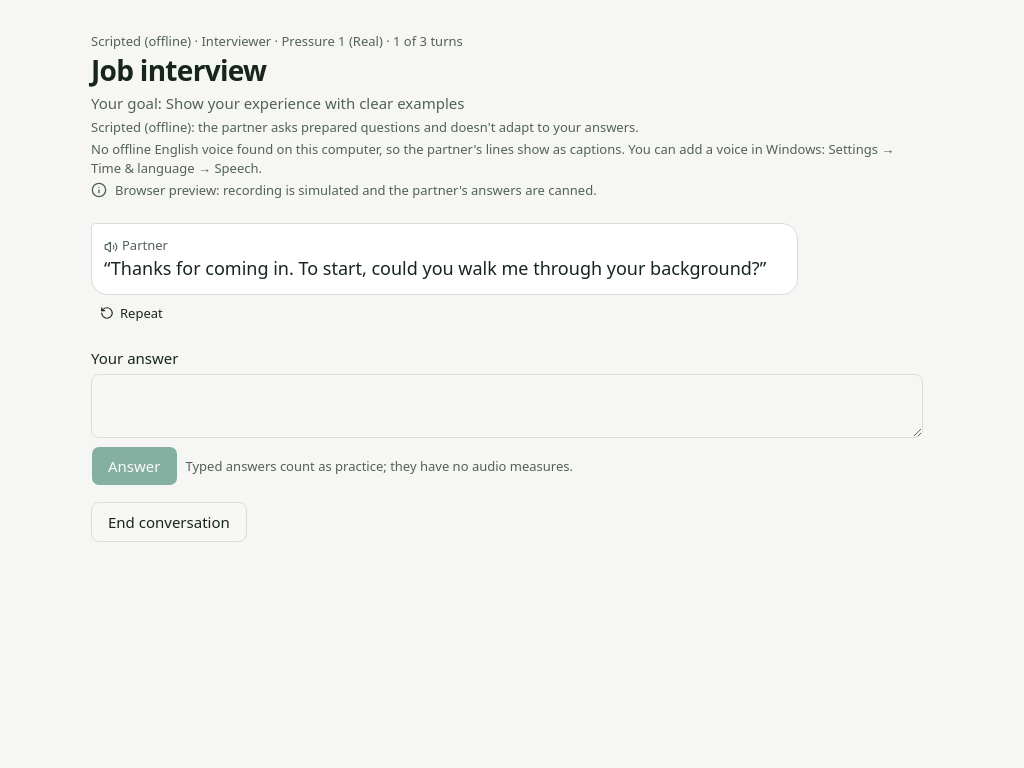
Test: asks scripted lines in order and ends after maxTurns
This screenshot has width=1024, height=768.
Type "First answer." into the text box labelled "Your answer" at (507, 406), box top-left (91, 374), bottom-right (923, 438)
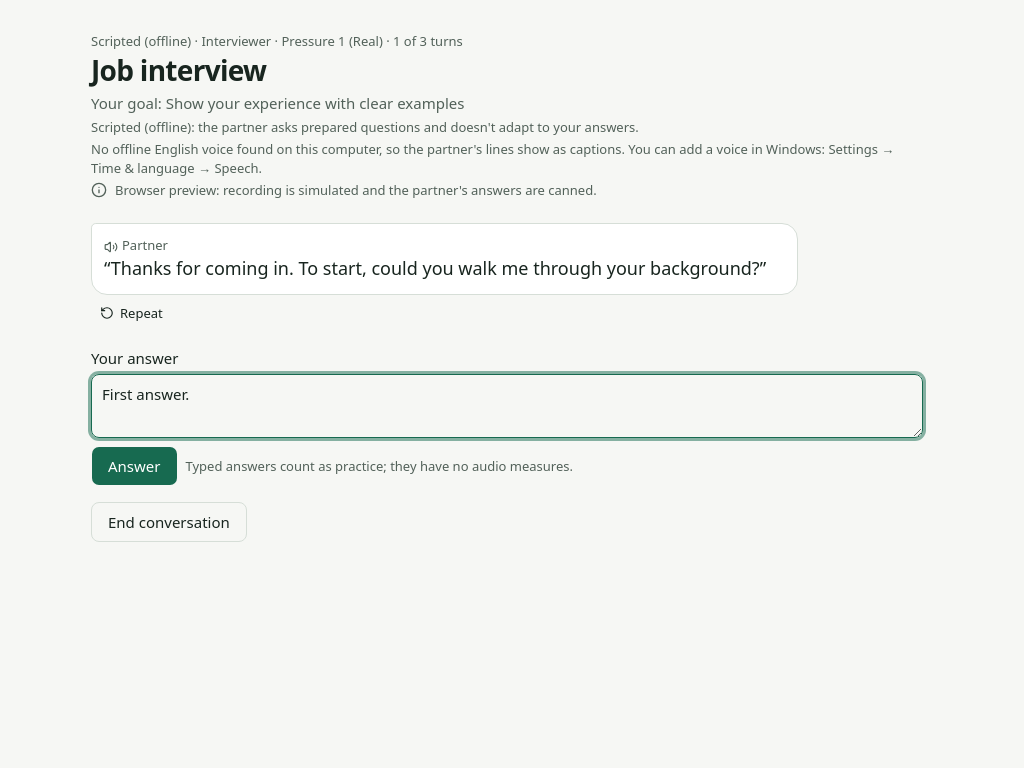
Click the button "Answer" at (134, 466), box top-left (91, 446), bottom-right (178, 486)
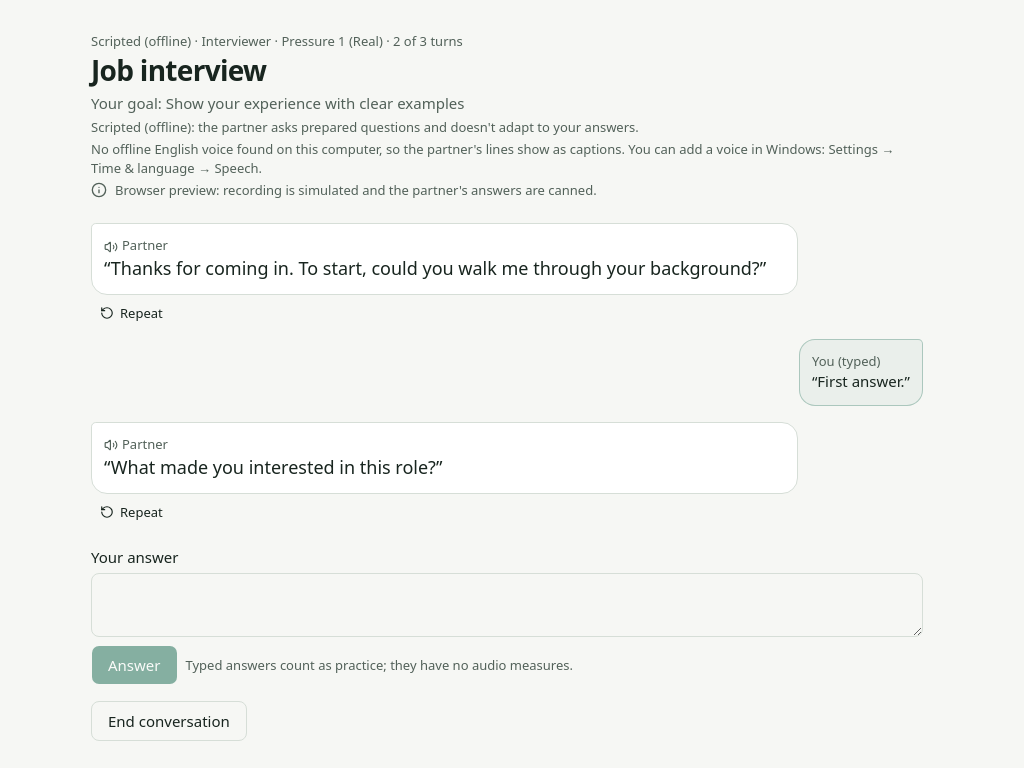
Type "Second answer." into the text box labelled "Your answer" at (507, 605), box top-left (91, 573), bottom-right (923, 637)
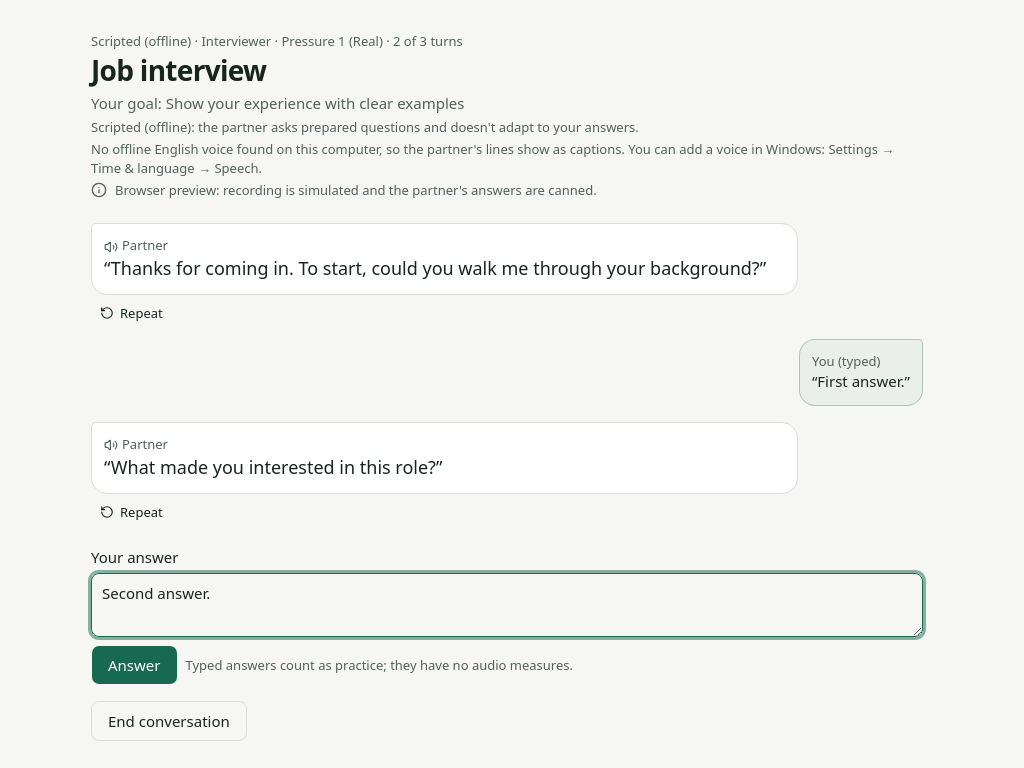
Click the button "Answer" at (134, 665), box top-left (91, 645), bottom-right (178, 685)
(page scrolled)
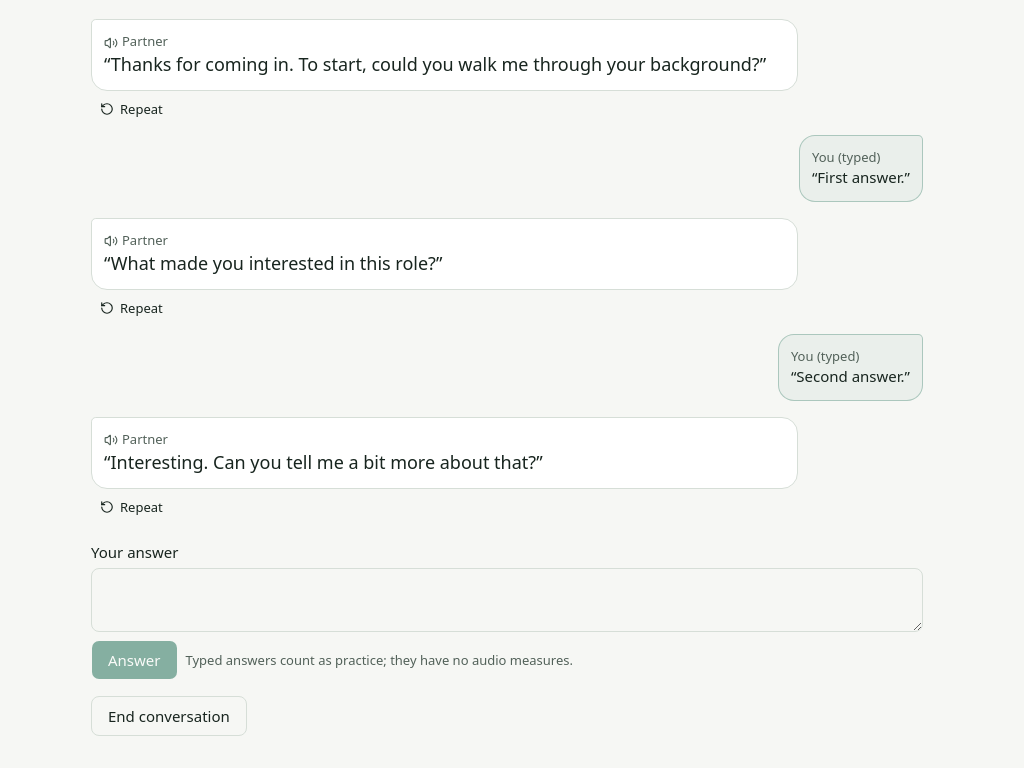
Type "Third answer." into the text box labelled "Your answer" at (507, 600), box top-left (91, 568), bottom-right (923, 632)
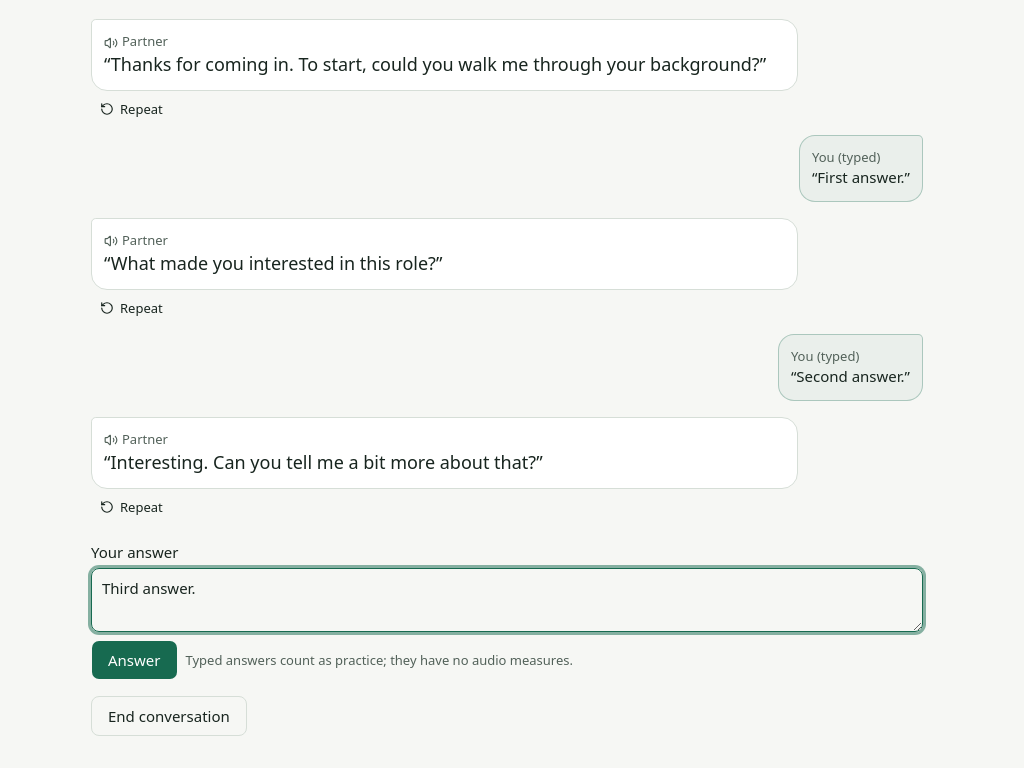
Click the button "Answer" at (134, 660), box top-left (91, 640), bottom-right (178, 680)
(page scrolled)
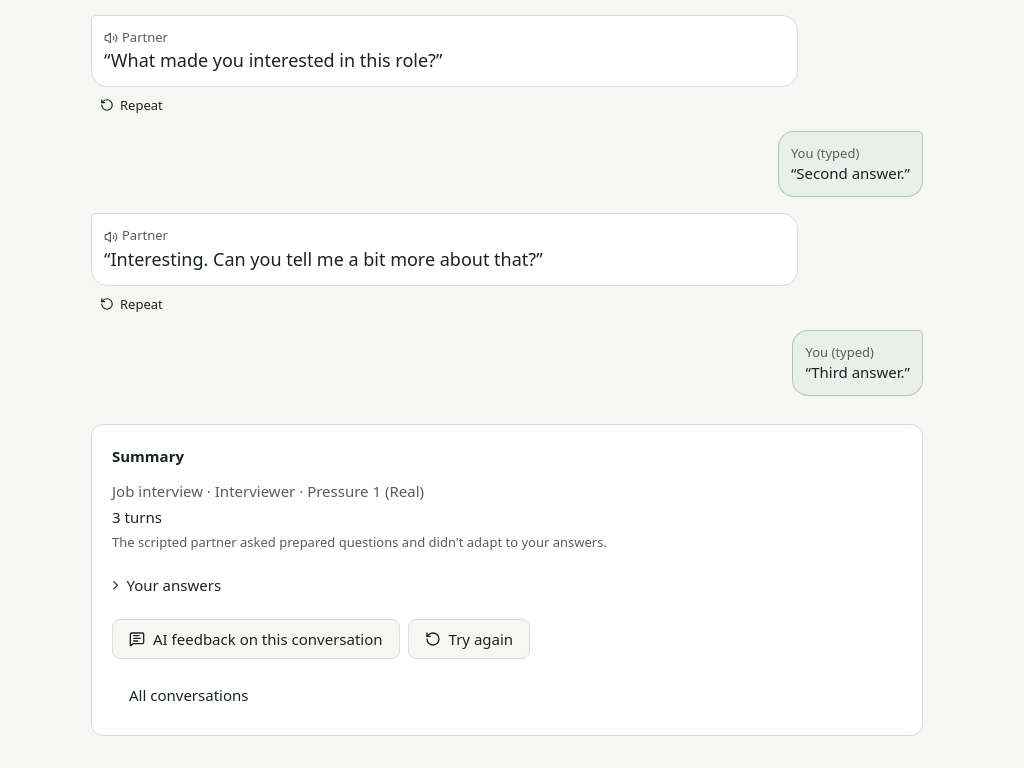
Expected: the element "Summary" shows "3 turns", top-left (91, 424), bottom-right (923, 736)
Expected: the button "End conversation" is gone
